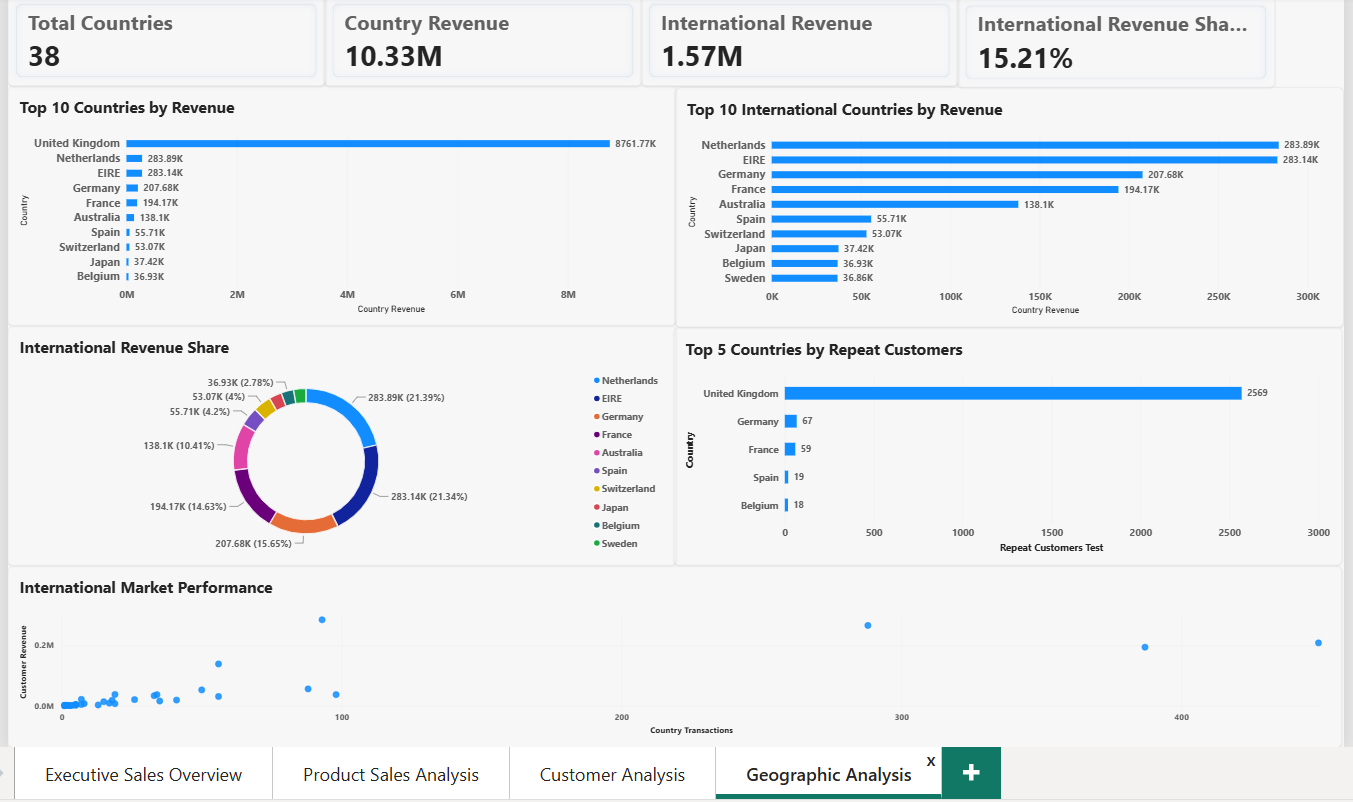

What the dashboard file says about the page in this screenshot:
{"tool":"powerbi","page":{"name":"Geographic Analysis","canvas":[1920,1080],"ordinal":3},"visuals":[{"type":"cardVisual","fields":{"Data":["online_retail_sales.Country Count"]},"box":[0,0,456.5,129.5],"z":0},{"type":"cardVisual","fields":{"Data":["online_retail_sales.Country Revenue"]},"box":[455.4,0,456.5,129.5],"z":1000},{"type":"cardVisual","fields":{"Data":["online_retail_sales.International Revenue"]},"box":[910.9,0,456.5,129.5],"z":2000},{"type":"cardVisual","fields":{"Data":["online_retail_sales.International Revenue Share %"]},"box":[1366.3,2.6,456.5,129.5],"z":3000},{"type":"clusteredBarChart","title":"Top 10 Countries by Revenue","fields":{"Category":["online_retail_sales.Country"],"Y":["online_retail_sales.Country Revenue"]},"box":[0,129.4,960.7,344.4],"z":4000},{"type":"clusteredBarChart","title":"Top 10 International Countries by Revenue","fields":{"Category":["online_retail_sales.Country"],"Y":["online_retail_sales.Country Revenue"]},"box":[959.9,131.6,960.7,344.4],"z":5000},{"type":"donutChart","title":"International Revenue Share","fields":{"Category":["online_retail_sales.Country"],"Y":["online_retail_sales.Country Revenue"]},"box":[0,473.9,960.9,344.9],"z":6000},{"type":"clusteredBarChart","title":"Top 5 Countries by Repeat Customers","fields":{"Category":["online_retail_sales.Country"],"Y":["online_retail_sales.Repeat Customers Test"]},"box":[958.3,476.5,960.9,342.2],"z":7000},{"type":"scatterChart","title":"International Market Performance","fields":{"Category":["online_retail_sales.Country"],"X":["online_retail_sales.Country Transactions"],"Y":["online_retail_sales.Customer Revenue"]},"box":[0,819.7,1917.7,261],"z":8000}]}

Visuals, with their boxes on the page's 1920x1080 design canvas (x1, y1, x2, y2). These are canvas units, not pixel positions in the 1353x802 screenshot, which may show the page scaled, cropped or inside an application window:
cardVisual - online_retail_sales.Country Count: (0, 0, 456, 130)
cardVisual - online_retail_sales.Country Revenue: (455, 0, 912, 130)
cardVisual - online_retail_sales.International Revenue: (911, 0, 1367, 130)
cardVisual - online_retail_sales.International Revenue Share %: (1366, 3, 1823, 132)
"Top 10 Countries by Revenue" clusteredBarChart: (0, 129, 961, 474)
"Top 10 International Countries by Revenue" clusteredBarChart: (960, 132, 1921, 476)
"International Revenue Share" donutChart: (0, 474, 961, 819)
"Top 5 Countries by Repeat Customers" clusteredBarChart: (958, 476, 1919, 819)
"International Market Performance" scatterChart: (0, 820, 1918, 1081)
